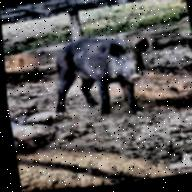boar: (37, 25, 168, 143)
